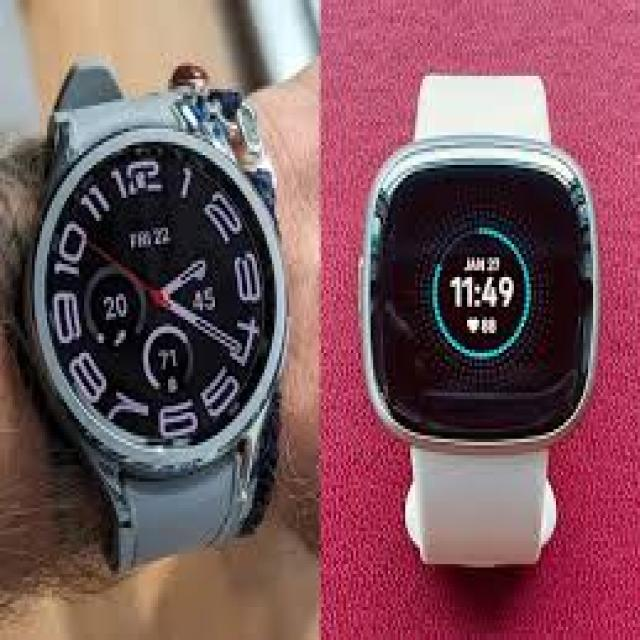objects: (21, 59, 292, 578), (358, 76, 596, 567), (224, 544, 225, 548)
